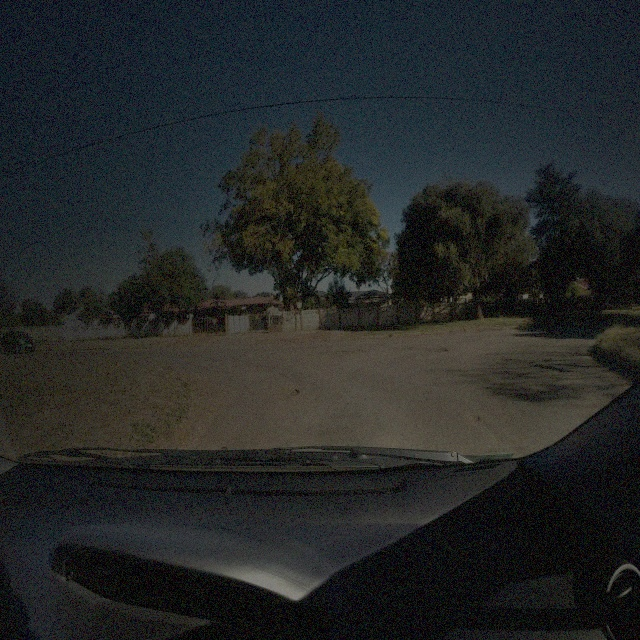pothole: (276, 386, 300, 399), (429, 345, 448, 355)
